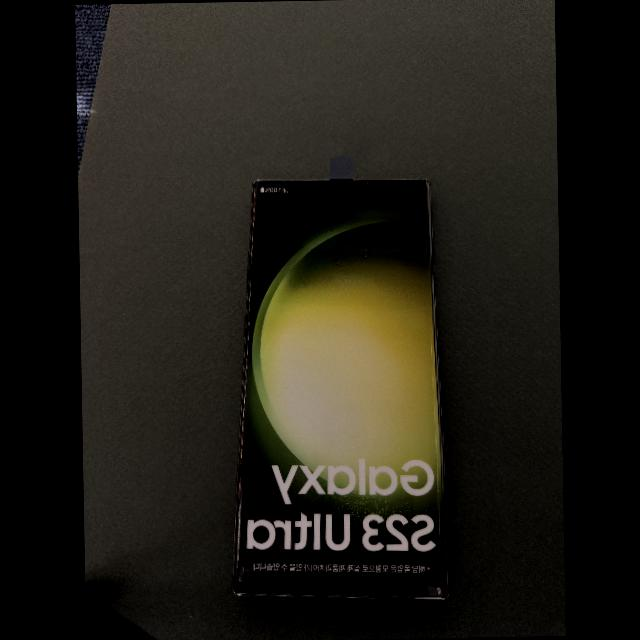lens: (337, 189, 342, 194)
phone: (232, 178, 449, 598)
sticker: (329, 155, 354, 178)
